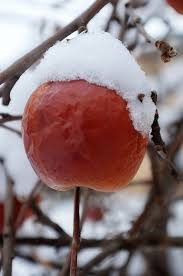damaged_apple: (21, 78, 157, 198)
